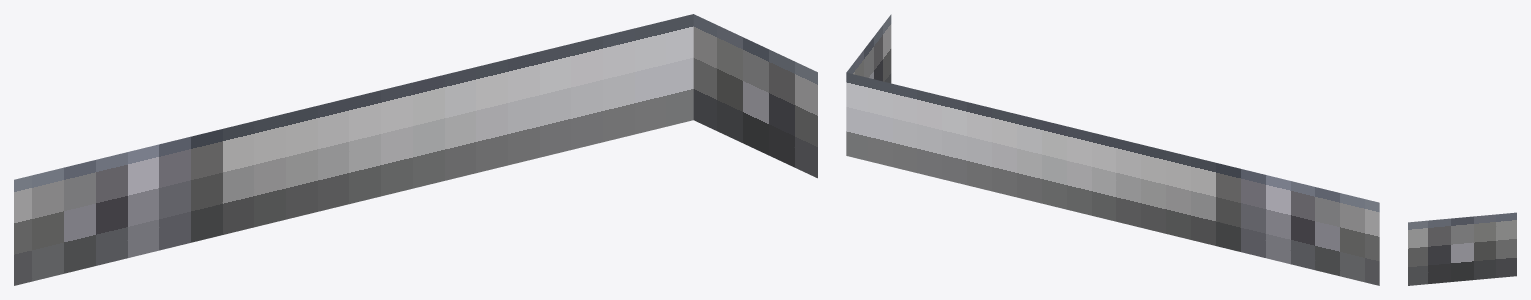
3 renders of one model, left to right at view 1: azimuth 30°, elevation 25°; view 2: azimuth 150°, elevation 25°; view 3: azimuth 270°, elevation 25°, orthographic. The views are drawn at different scales.
Visible parts, largest first — view 1: Plane37; view 2: Plane37; view 3: Plane37.
Boxes of the visible parts, x1,y1,x2,y2 form: Plane37: (14,14,817,285); Plane37: (846,14,1379,285); Plane37: (1408,212,1516,285).
Size of the model in its own units: 281 by 40 by 61.96.
Materials: 1 (1 with a texture image).
